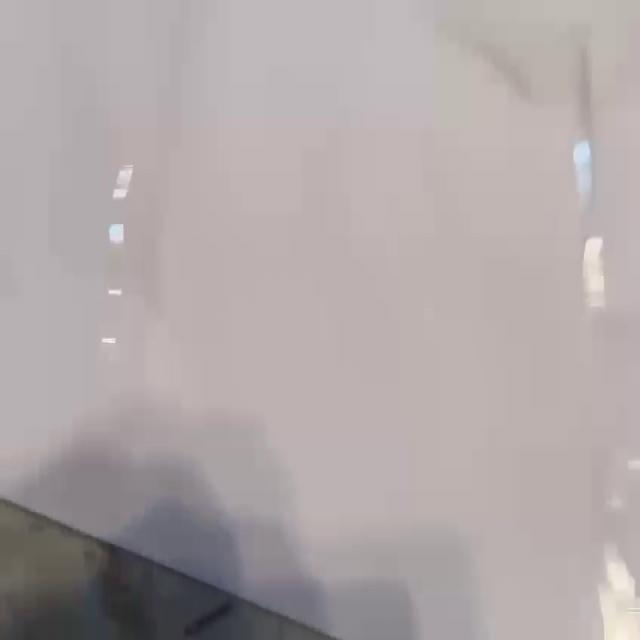road: (0, 0, 640, 638)
